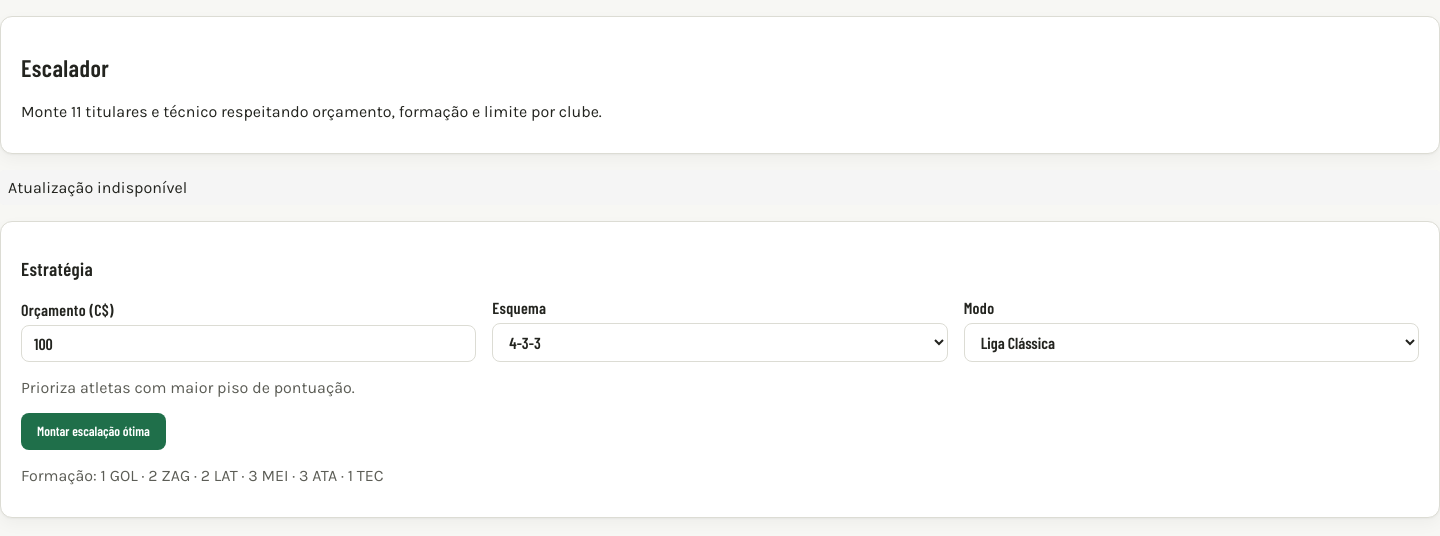
Test: Escalador › omite posições com quantidade zero no resumo da formação
Expected: the text "Formação: 1 GOL · 2 ZAG · 2 LAT · 3 MEI · 3 ATA · 1 TEC" is shown, [21,466,384,485]
Select "3-4-3" in the dropdown labelled "Esquema" at (720, 342), box [492,323,948,362]
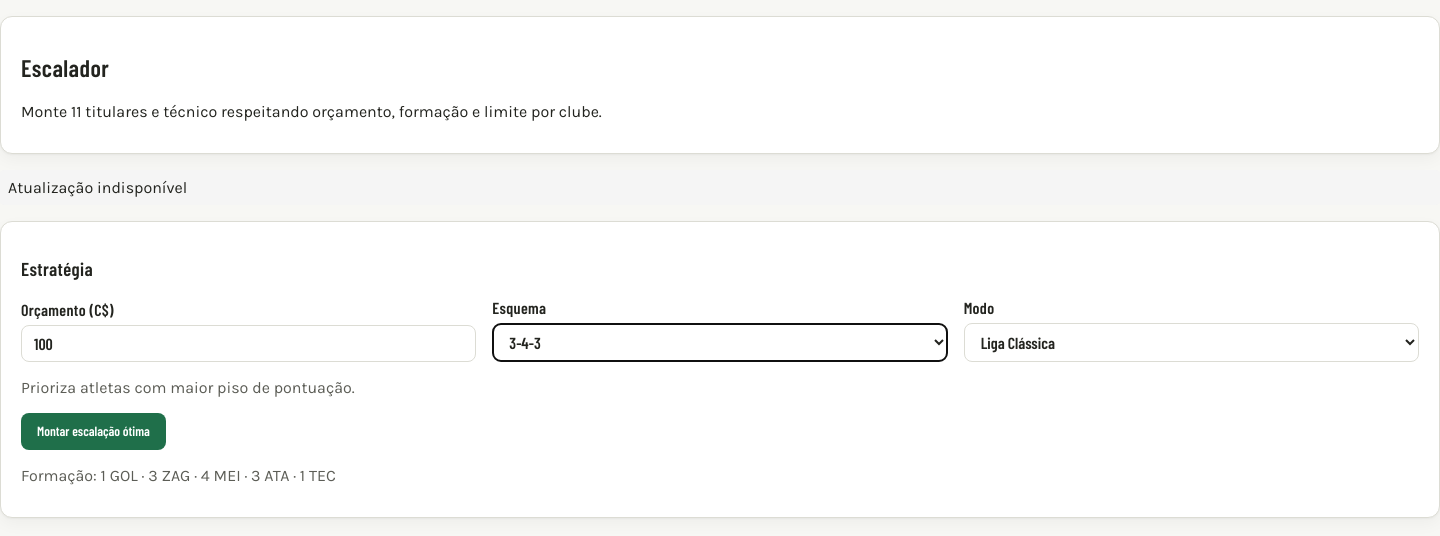
Expected: the text "Formação: 1 GOL · 3 ZAG · 4 MEI · 3 ATA · 1 TEC" is shown, [21,466,336,485]
Expected: the text "LAT" is gone
